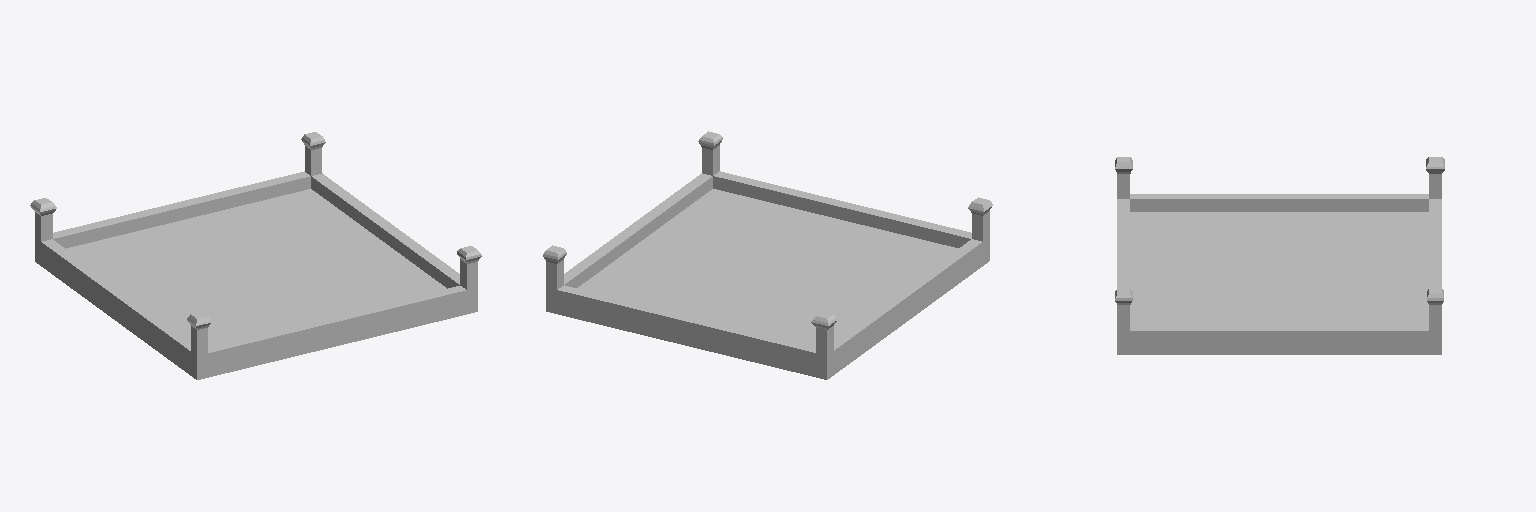
File: 25x25WalledRooftop.obj
The picture shows the model from 3 angles: view 1: azimuth 30°, elevation 25°; view 2: azimuth 150°, elevation 25°; view 3: azimuth 270°, elevation 25°; orthographic projection.
Parts seen in each view (by area): view 1: pCube16; view 2: pCube16; view 3: pCube16.
Part boxes in pixels (x1,y1,x2,y2): pCube16: (30, 132, 481, 379); pCube16: (543, 131, 992, 379); pCube16: (1115, 157, 1444, 354).
Size of the model in its own units: 25.46 by 5.22 by 25.48.